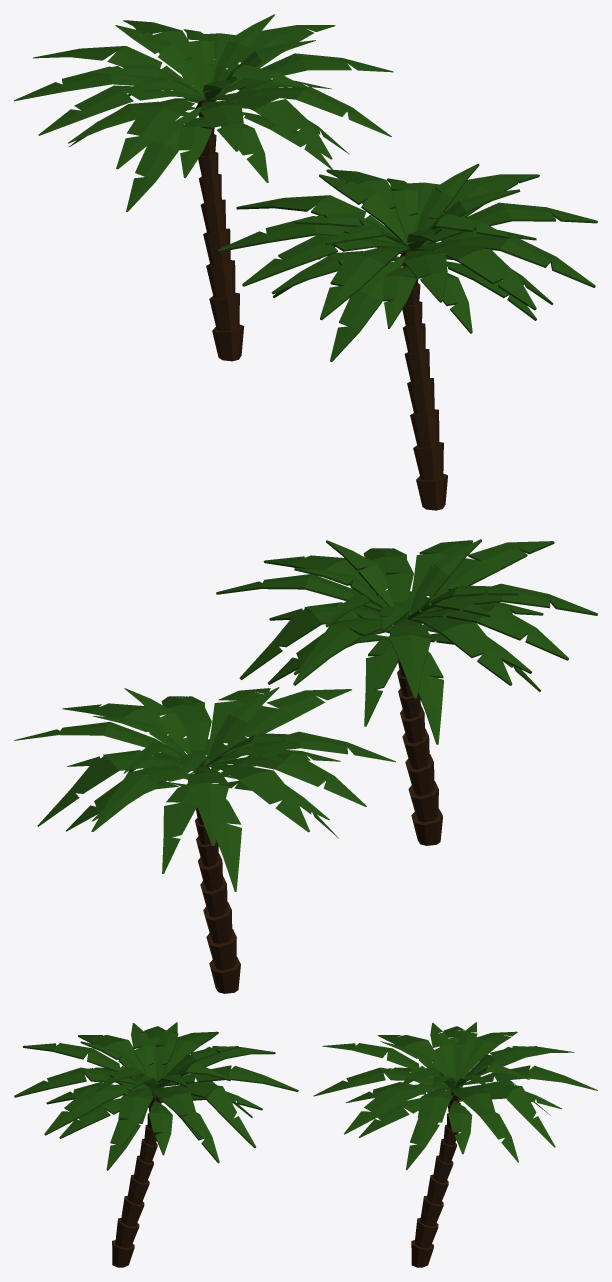
Rendered from LP Med Palm tree .obj.
3 views of the same model, one above another, from view 1: azimuth 30°, elevation 25°; view 2: azimuth 150°, elevation 25°; view 3: azimuth 270°, elevation 25° (orthographic). The views are drawn at different scales.
Parts seen in each view (by area): view 1: Palm_Tree_M_T_Cube.001, Palm_Tree_M_Cube.005; view 2: Palm_Tree_M_T_Cube.001, Palm_Tree_M_Cube.005; view 3: Palm_Tree_M_T_Cube.001, Palm_Tree_M_Cube.005.
Boxes of the visible parts, x1=… form: Palm_Tree_M_T_Cube.001: x1=218, y1=163, x2=597, y2=510; Palm_Tree_M_Cube.005: x1=14, y1=14, x2=393, y2=361; Palm_Tree_M_T_Cube.001: x1=216, y1=539, x2=597, y2=845; Palm_Tree_M_Cube.005: x1=14, y1=687, x2=395, y2=993; Palm_Tree_M_T_Cube.001: x1=14, y1=1022, x2=298, y2=1267; Palm_Tree_M_Cube.005: x1=313, y1=1022, x2=597, y2=1267.
Size of the model in its own units: 10.85 by 9.11 by 22.58.
